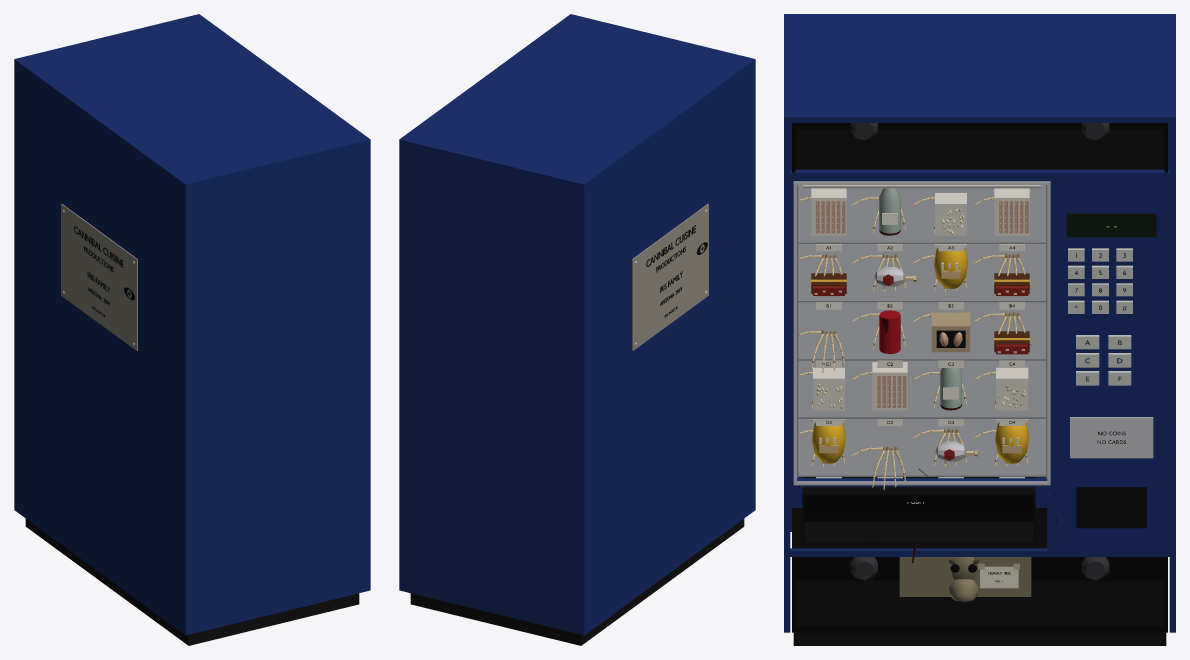
Rendered from cc_body@1.glb.
3 views of the same model, side by side, from view 1: azimuth 30°, elevation 25°; view 2: azimuth 150°, elevation 25°; view 3: azimuth 270°, elevation 25° (orthographic). The views are drawn at different scales.
Parts seen in each view (by area): view 1: teil0, teil43, teil1, teil13; view 2: teil0, teil43, teil1, teil13; view 3: teil0, teil18, teil4, teil3, teil2, teil22, teil1, teil42, teil24, teil20, teil10, teil21 (+14 smaller).
Part boxes in pixels (<box>): teil0: <box>14,14,370,635</box>; teil43: <box>61,203,137,350</box>; teil1: <box>25,519,359,645</box>; teil13: <box>74,226,134,317</box>; teil0: <box>399,14,755,635</box>; teil43: <box>632,203,708,350</box>; teil1: <box>410,519,744,645</box>; teil13: <box>646,225,707,317</box>; teil0: <box>784,14,1175,632</box>; teil18: <box>797,185,1047,478</box>; teil4: <box>792,123,1167,632</box>; teil3: <box>802,330,1146,547</box>; teil2: <box>793,181,1153,503</box>; teil22: <box>811,188,1029,444</box>; teil1: <box>793,632,1166,645</box>; teil42: <box>1068,248,1132,385</box>; teil24: <box>798,196,1028,489</box>; teil20: <box>816,213,1024,478</box>; teil10: <box>899,557,1031,596</box>; teil21: <box>812,248,1028,463</box>.
Size of the model in its own units: 0.8153 by 1.83 by 1.22.
